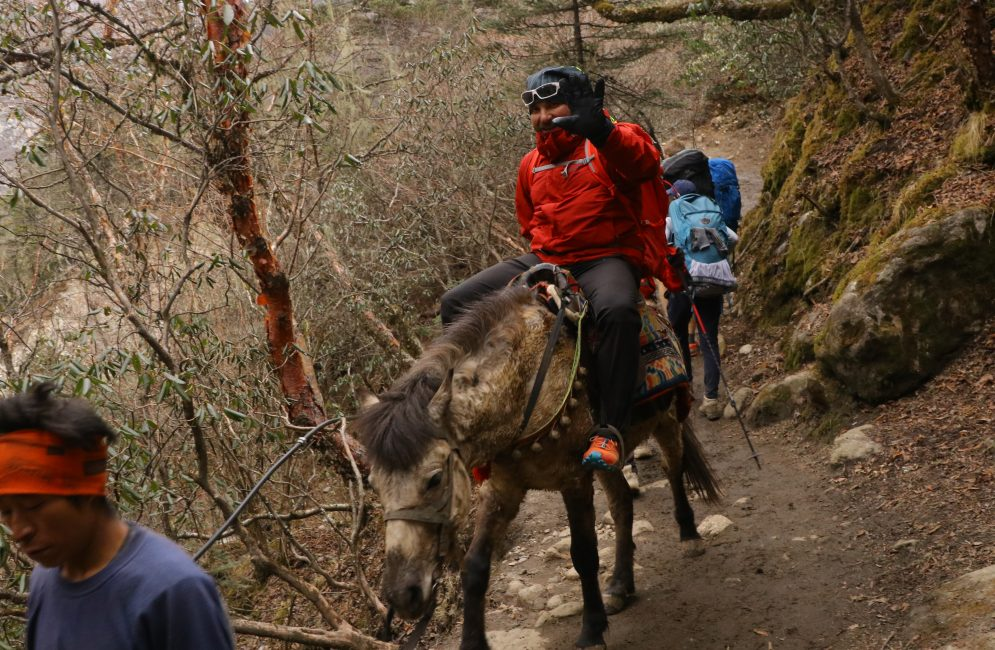human: (489, 61, 672, 494), (1, 383, 276, 650)
